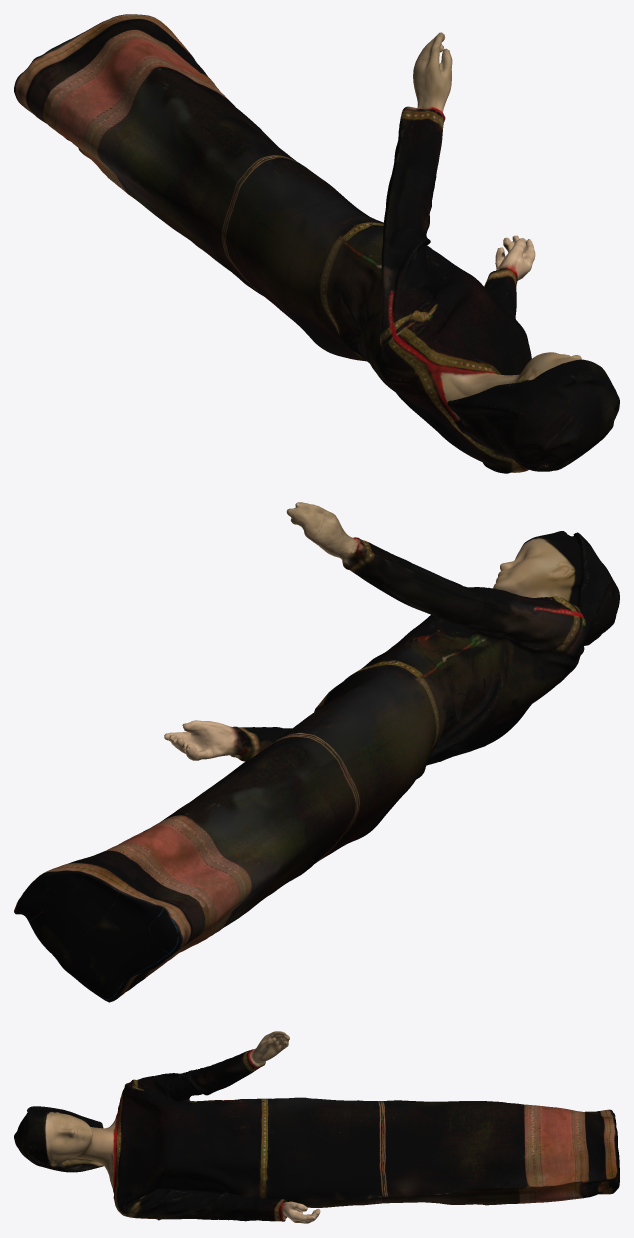
The model's file is Nu_Mnong.fbx.
3 views of the same model, one above another, from view 1: azimuth 30°, elevation 25°; view 2: azimuth 150°, elevation 25°; view 3: azimuth 270°, elevation 25° (orthographic). The views are drawn at different scales.
Parts seen in each view (by area): view 1: model_1; view 2: model_1; view 3: model_1.
Boxes of the visible parts, left/top/right/bottom form: model_1: left=14, top=14, right=619, bottom=473; model_1: left=14, top=502, right=619, bottom=1002; model_1: left=14, top=1031, right=619, bottom=1223.
Size of the model in its own units: 13312 by 14432 by 39746.
Materials: 1 (1 with a texture image).
